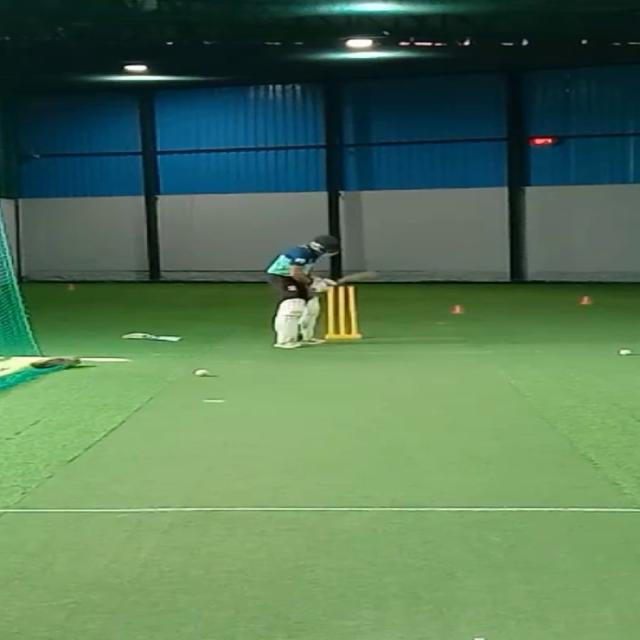ball: (193, 364, 219, 380)
stump: (324, 282, 365, 339)
